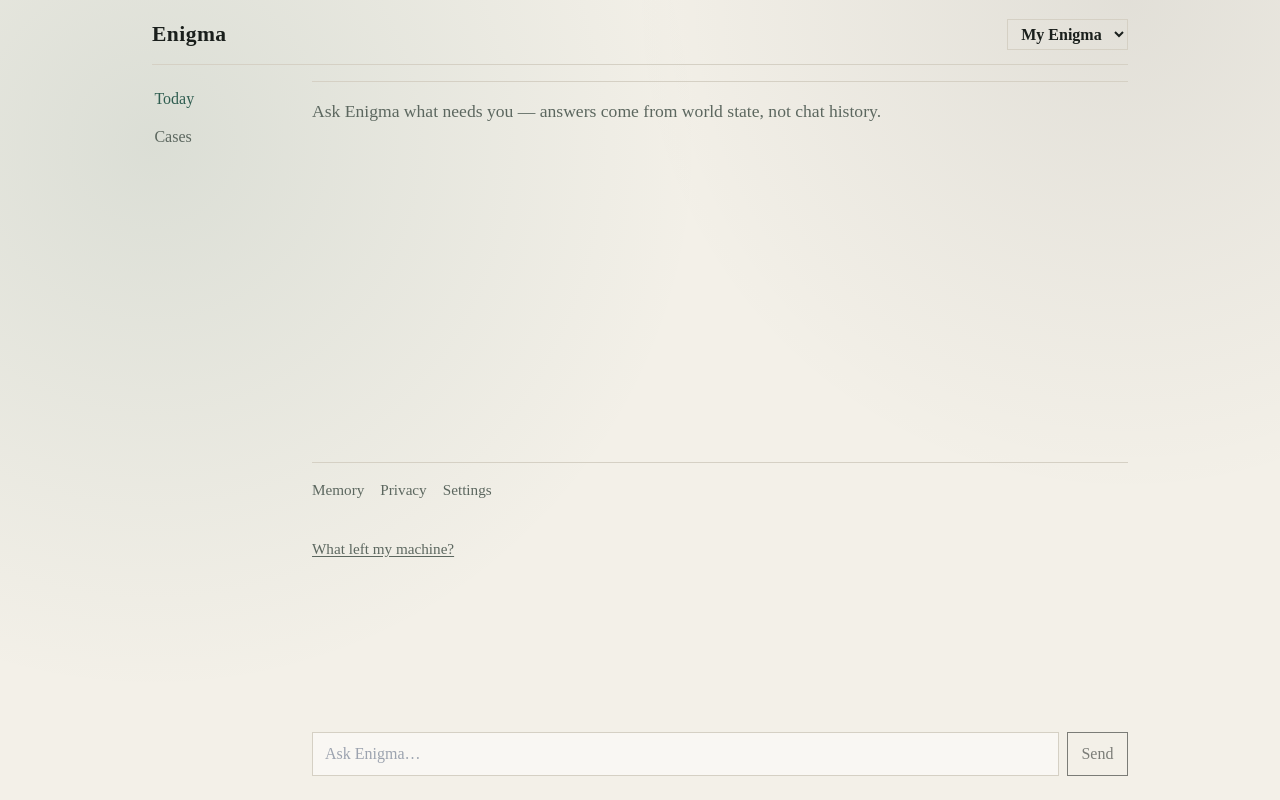
Scenario: P01 world isolation freeze › GOOSE_01 — switching worlds cannot leave stale AgentWork projected by Goose
This screenshot has width=1280, height=800.
Select "Alex Lab" in the 1st dropdown with test id "world-switcher" at (1068, 35), box [1007, 19, 1128, 50]
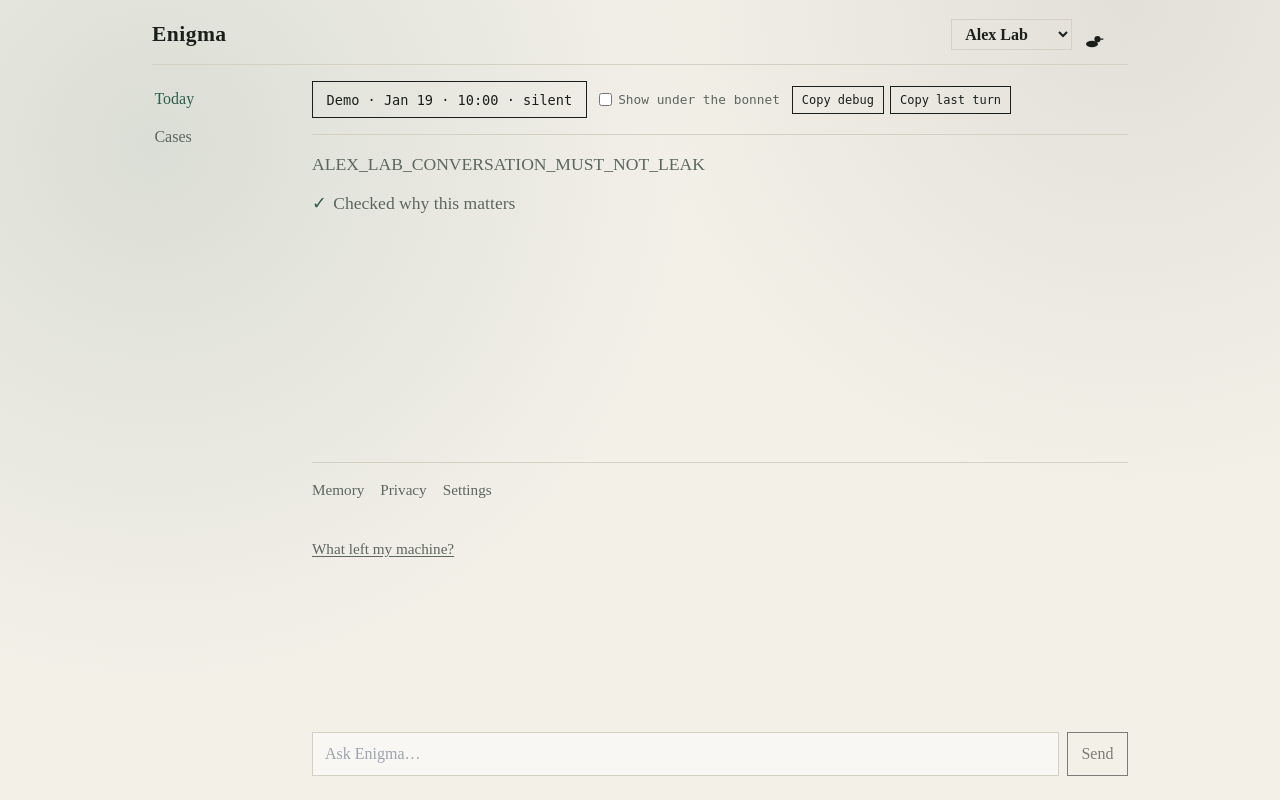
Now the dropdown with test id "world-switcher" shows "Alex Lab", box [951, 19, 1072, 50]
Click the button named "explain checked why this matters" at (1094, 41), box [1084, 33, 1104, 49]
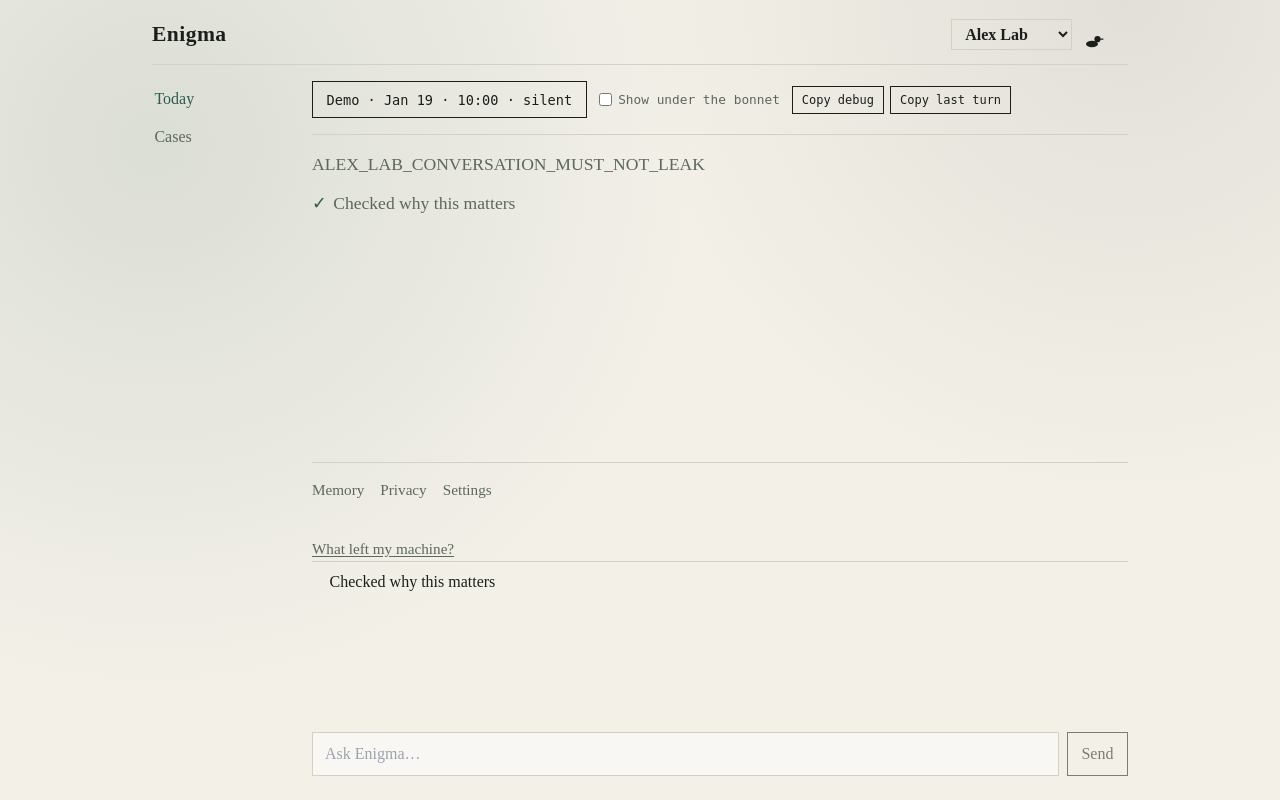
Now the element with test id "work-explanation" is shown, box [312, 561, 1128, 602]
Select "My Enigma" in the 1st dropdown with test id "world-switcher" at (1012, 35), box [951, 19, 1072, 50]
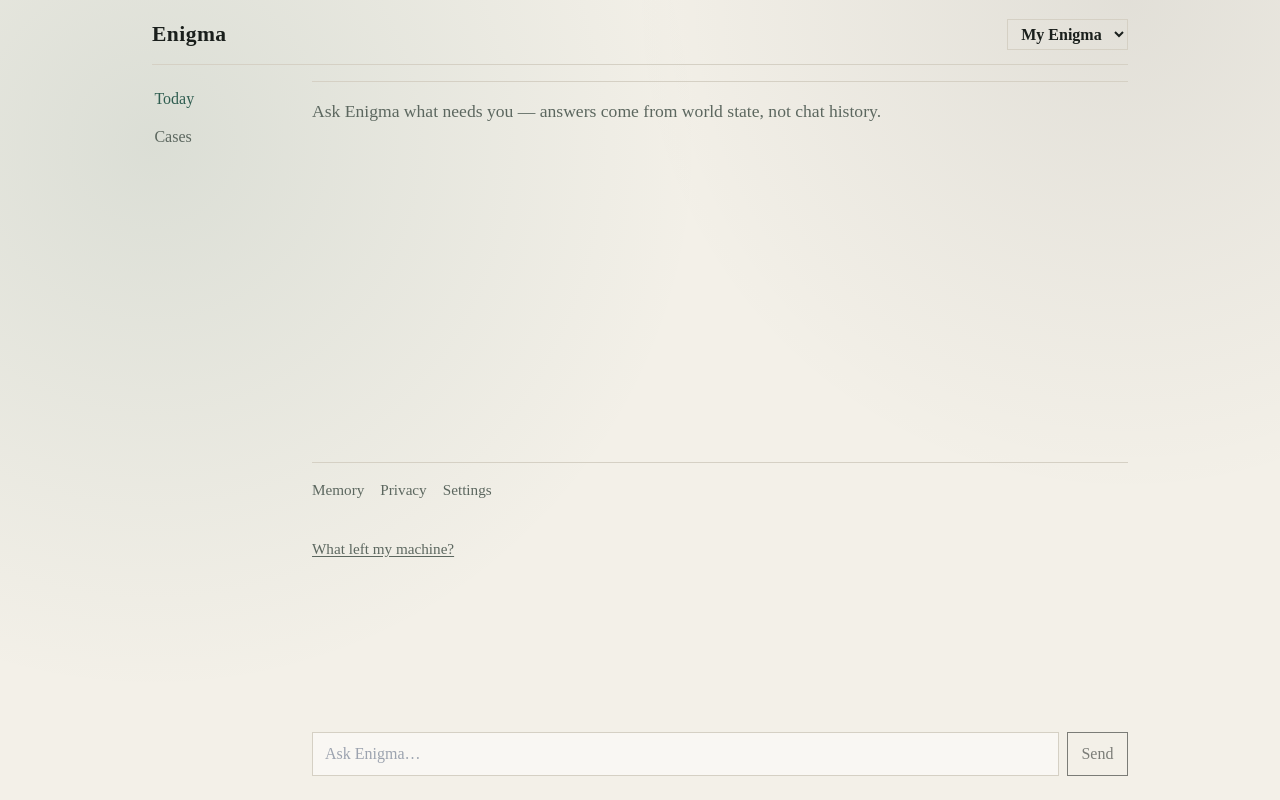
Now the dropdown with test id "world-switcher" shows "My Enigma", box [1007, 19, 1128, 50]
Now the element with test id "surface-goose" is gone
Now the element with test id "work-explanation" is gone
